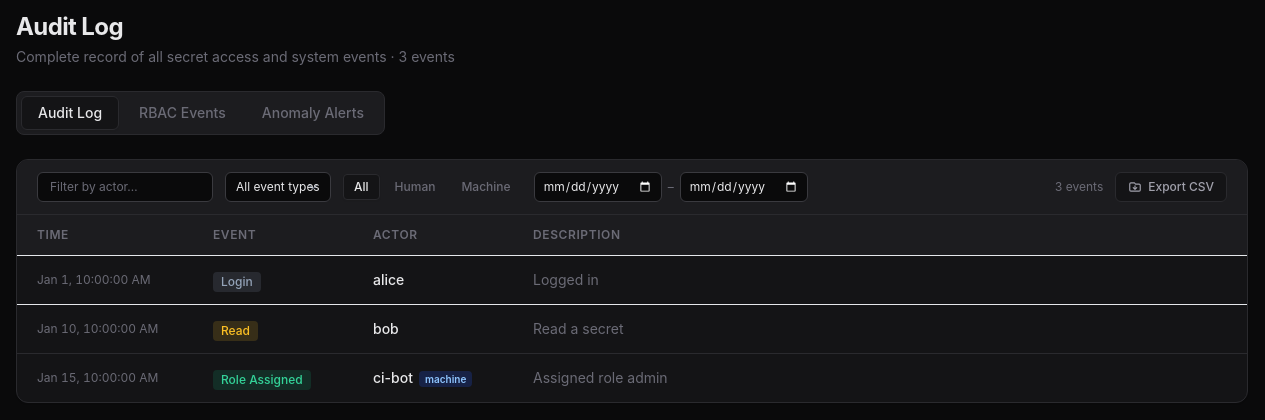
Scenario: AuditLogPage — audit tab › filters by actor type
The image size is (1265, 420).
Step 1. Click the button "Machine" → (486, 187), box [450, 174, 522, 200]
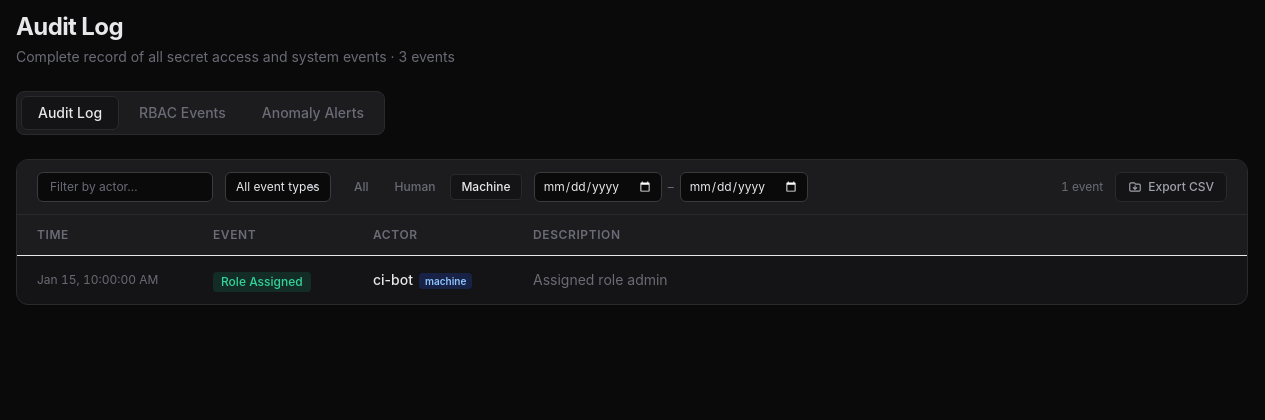
Expected: the text "ci-bot" is shown, [373, 271, 413, 288]
Expected: the text "alice" is gone
